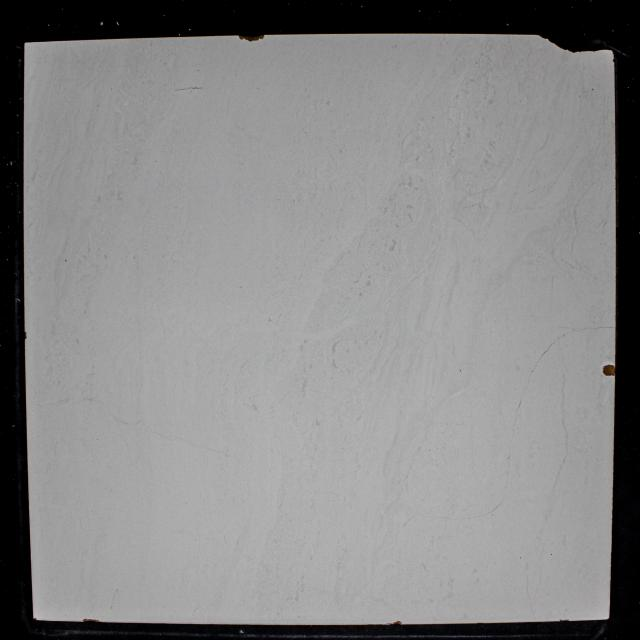edge-chipping: (539, 34, 614, 54), (238, 33, 266, 42), (602, 364, 617, 376), (82, 618, 102, 623), (389, 620, 402, 626)
line: (470, 499, 506, 518), (541, 334, 565, 358), (512, 395, 524, 430), (574, 326, 615, 332), (528, 361, 539, 383), (175, 86, 203, 92)
